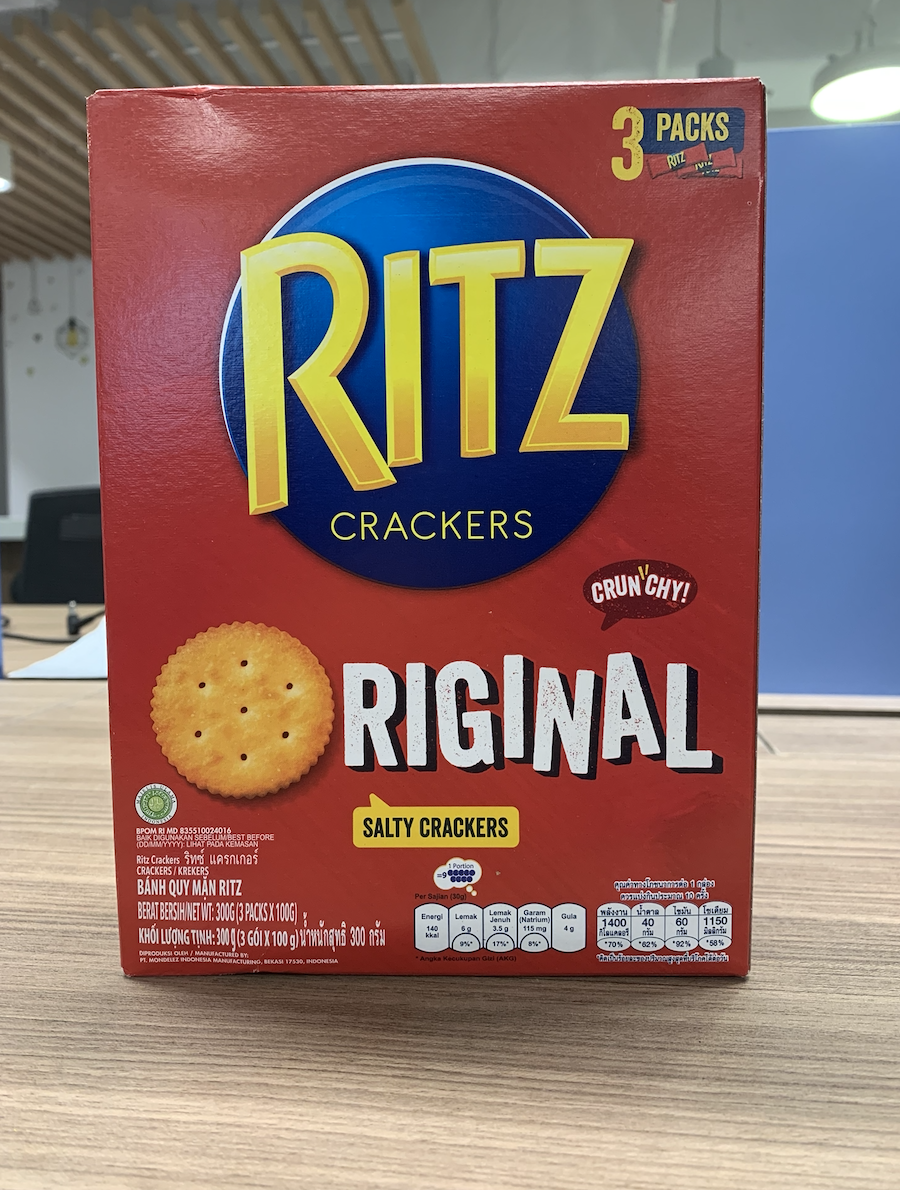crackers_450g: (130, 99, 747, 969)
